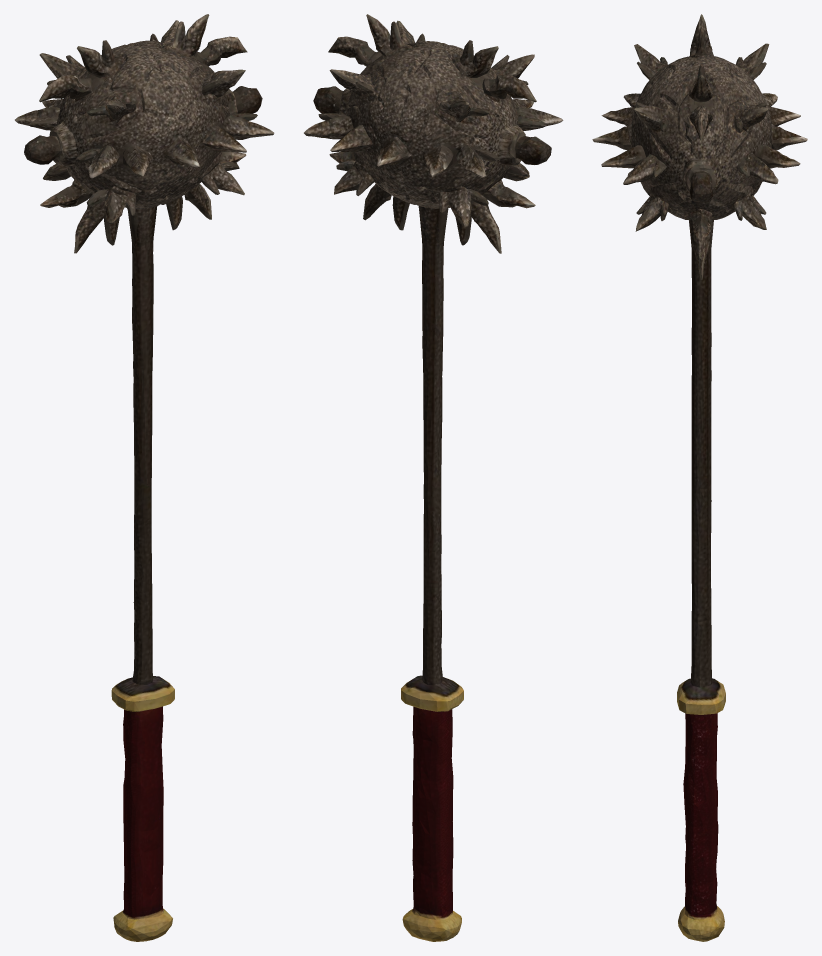
File: mace.glb
The picture shows the model from 3 angles, left to right: view 1: azimuth 30°, elevation 25°; view 2: azimuth 150°, elevation 25°; view 3: azimuth 270°, elevation 25°; orthographic projection.
Visible parts, largest first — view 1: tripo_node_829b2149-d286-49e0-8835-ffd5123a4847; view 2: tripo_node_829b2149-d286-49e0-8835-ffd5123a4847; view 3: tripo_node_829b2149-d286-49e0-8835-ffd5123a4847.
Part boxes in pixels (x1,y1,x2,y2): tripo_node_829b2149-d286-49e0-8835-ffd5123a4847: [15, 14, 274, 941]; tripo_node_829b2149-d286-49e0-8835-ffd5123a4847: [304, 14, 563, 941]; tripo_node_829b2149-d286-49e0-8835-ffd5123a4847: [592, 14, 807, 941].
Bounding box in the file's own units: 0.22 × 0.82 × 0.18.
Materials: 1 (1 with a texture image).
